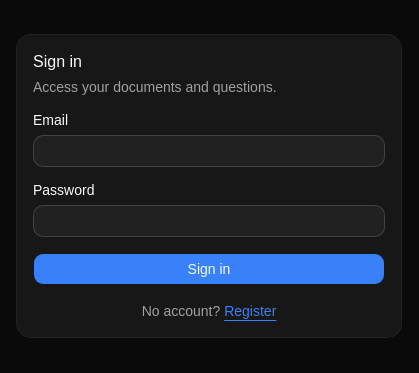
Scenario: LoginPage › shows a validation error for incorrect credentials without navigating away
Type "a@example.com" into the field labelled "Email" at (209, 151), box [33,135,385,167]
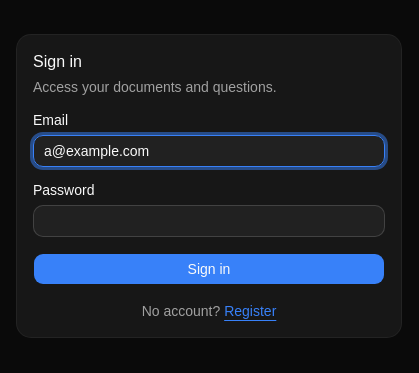
Type "wrongpassword" into the password field labelled "Password" at (209, 221), box [33,205,385,237]
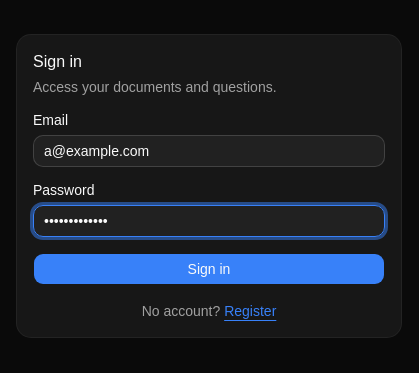
Click the button "Sign in" at (209, 269), box [33,253,385,285]
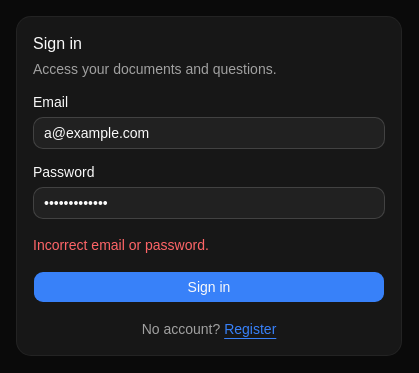
Check: the message shows "Incorrect email or password", box [33,237,209,253]
